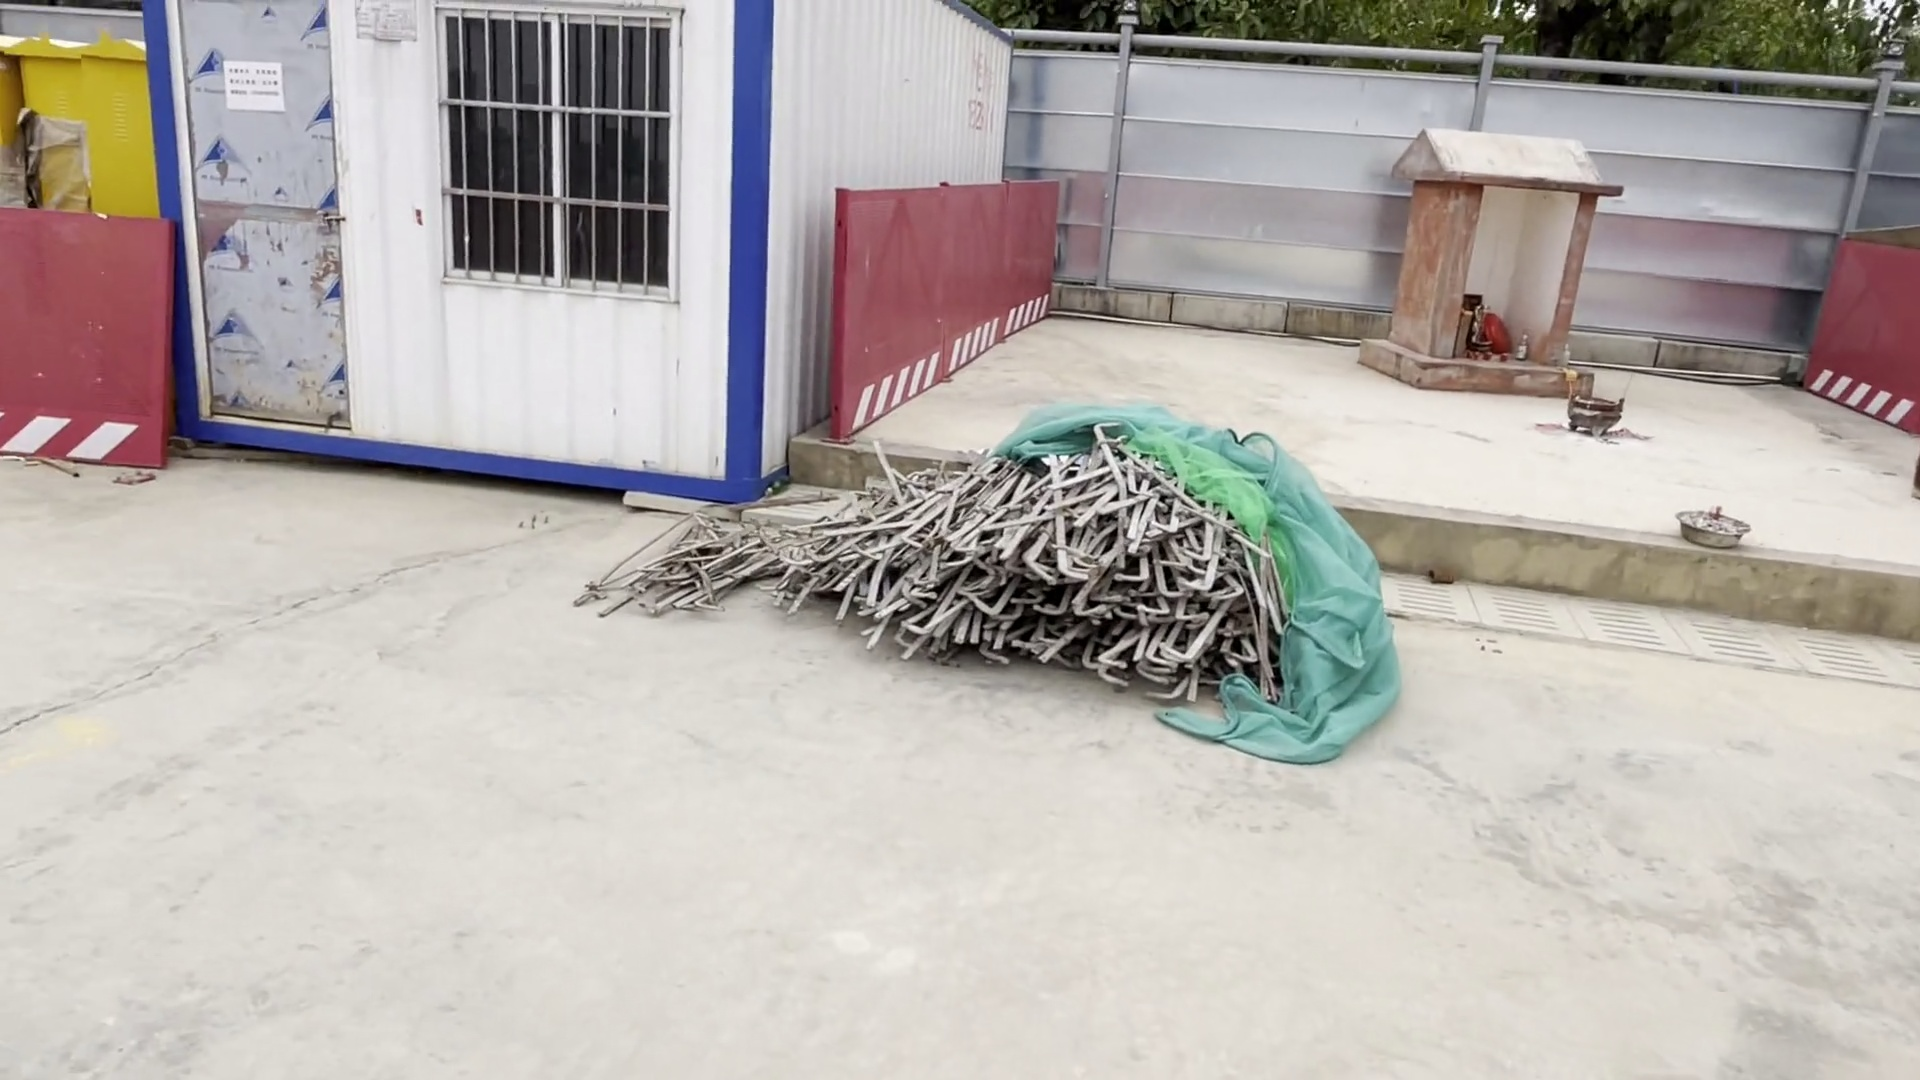fence: (833, 179, 1080, 435)
